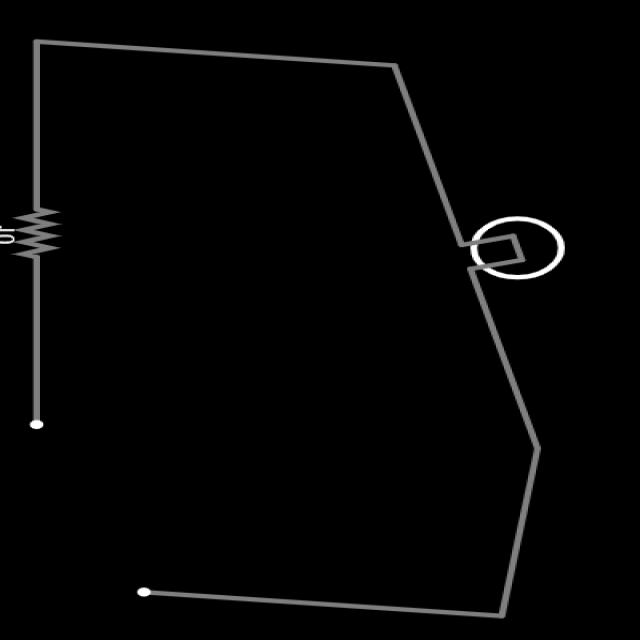Light Bulb: (463, 215, 564, 279)
Resistor: (13, 206, 61, 257)
Wire: (467, 261, 543, 448), (392, 63, 466, 245), (133, 585, 511, 620), (27, 38, 397, 66), (498, 445, 542, 618), (31, 254, 46, 429), (32, 43, 42, 210)
